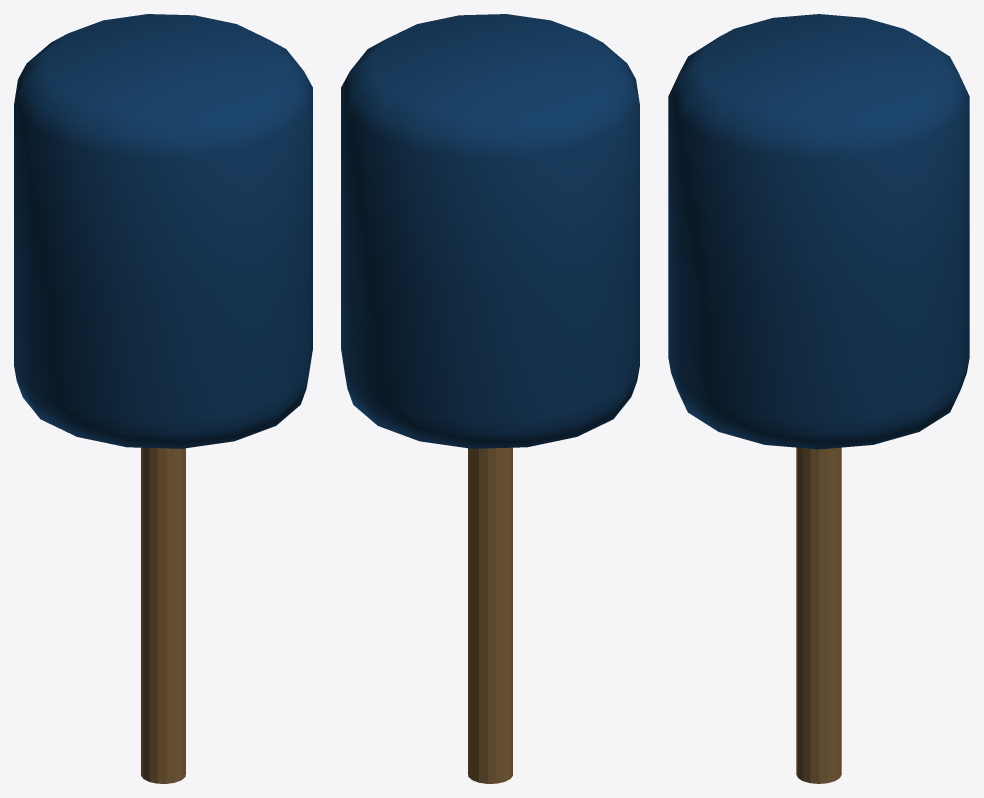
Rendered from Hammer.fbx.
The picture shows the model from 3 angles, left to right: view 1: azimuth 30°, elevation 25°; view 2: azimuth 150°, elevation 25°; view 3: azimuth 270°, elevation 25°; orthographic projection.
Visible parts, largest first — view 1: Cylinder; view 2: Cylinder; view 3: Cylinder.
Part boxes in pixels (x1,y1,x2,y2): Cylinder: (14, 14, 312, 783); Cylinder: (341, 14, 639, 783); Cylinder: (668, 14, 969, 783).
Size of the model in its own units: 212 by 550 by 212.
